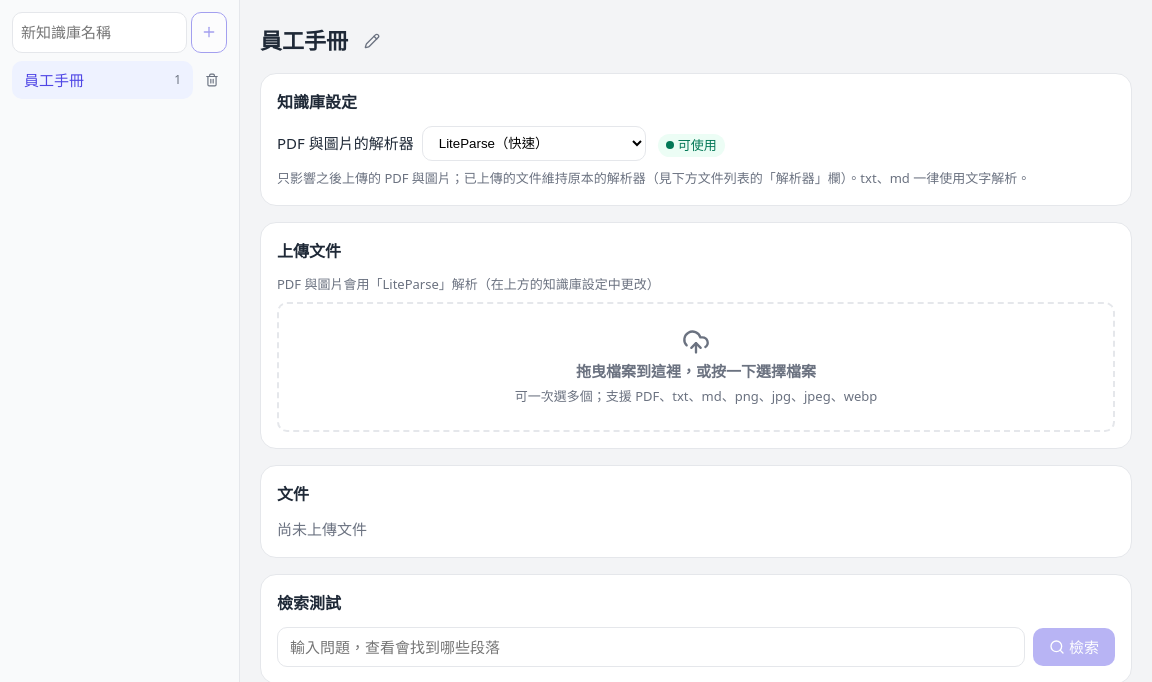
Test: KbPage › shows why the parser setting could not be saved
The width and height of the screenshot is (1152, 682).
Select "LightOnOCR-3（GPU OCR）" in the dropdown named "知識庫的解析器": (534, 144) left=422, top=126, right=646, bottom=161
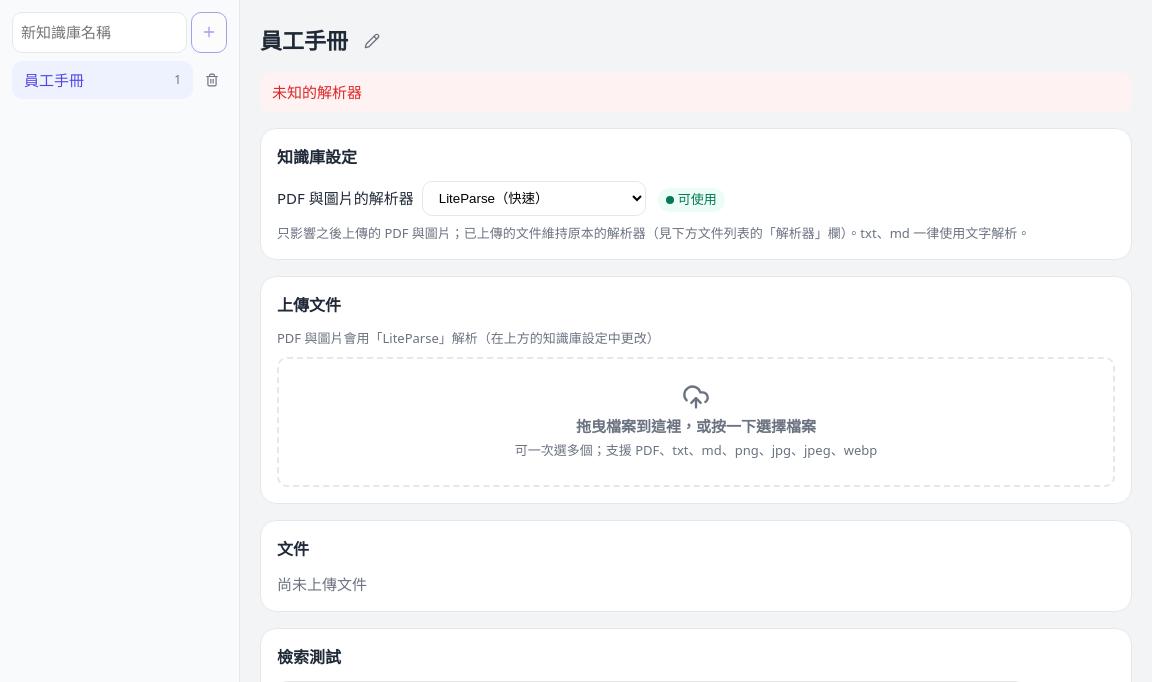
Expected: the message "未知的解析器" is shown, left=260, top=73, right=1132, bottom=112
